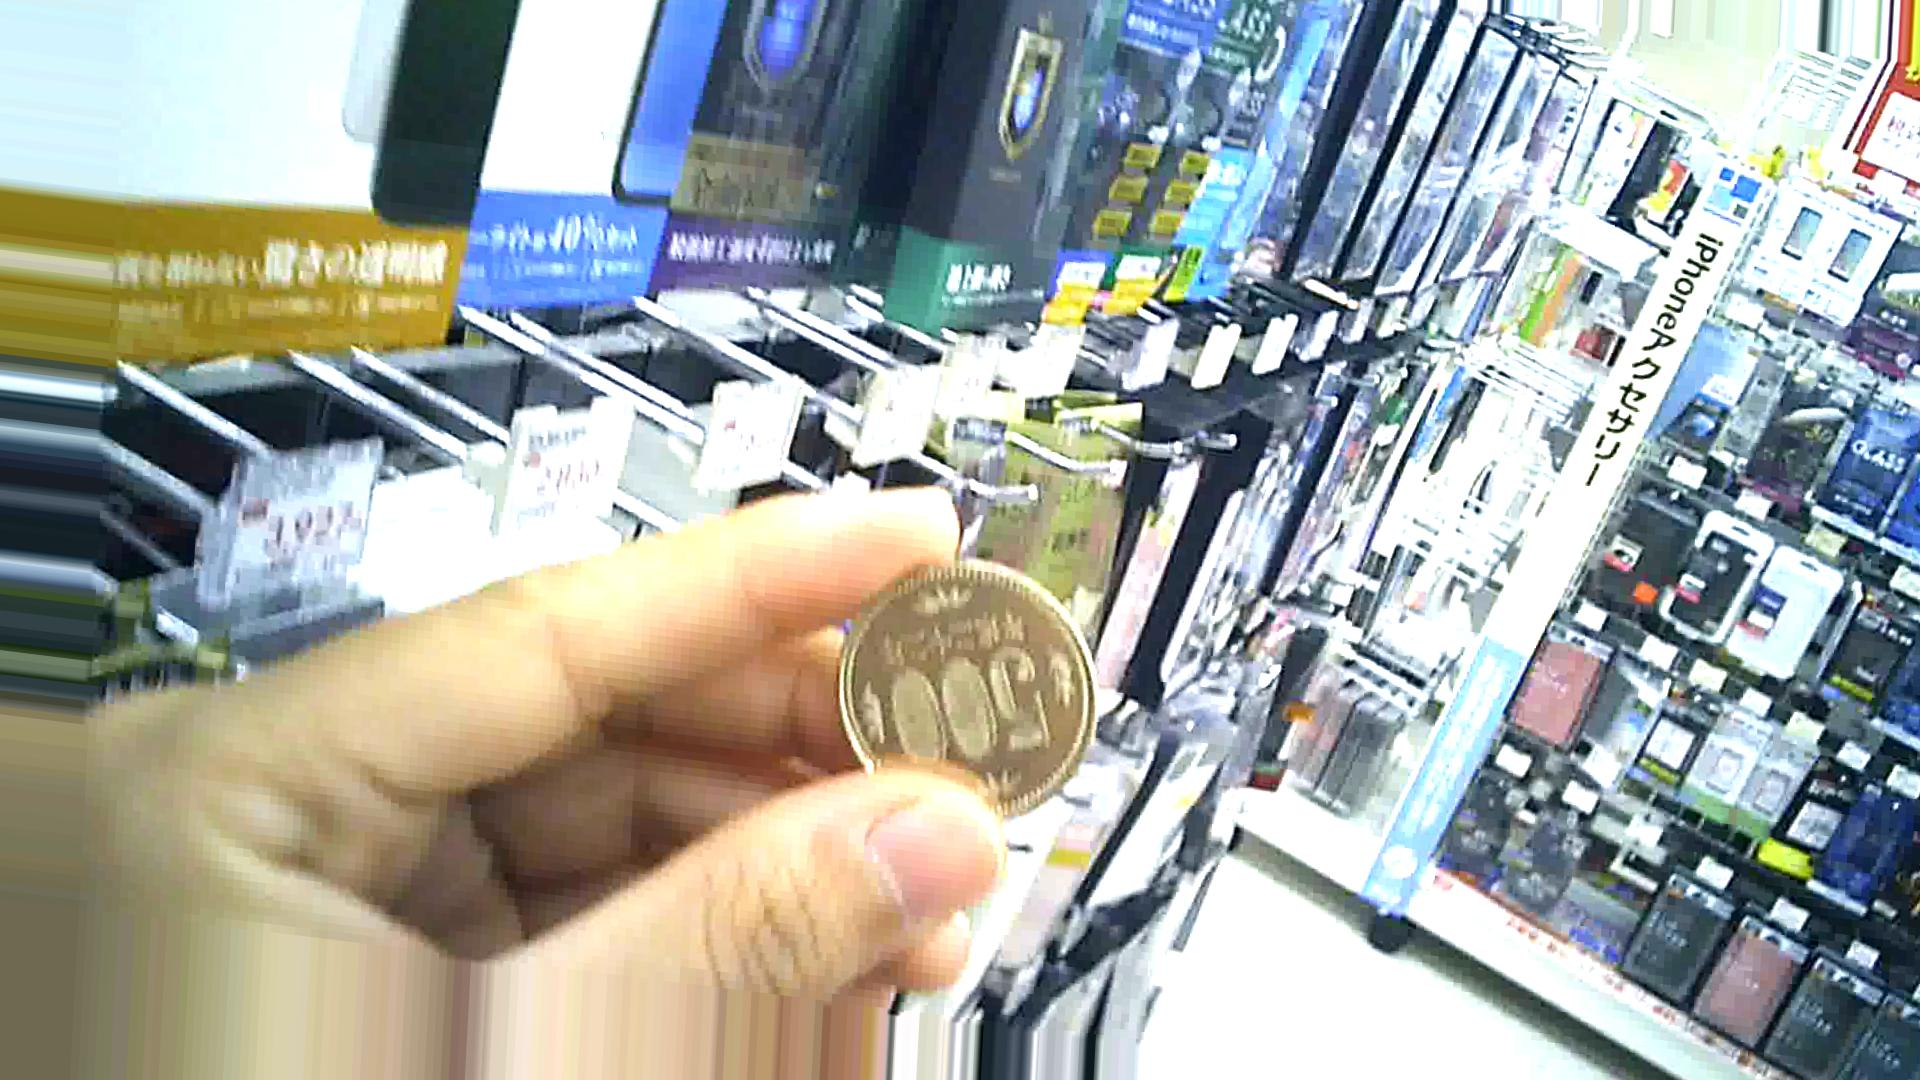500 Yen: (825, 535, 1100, 828)
